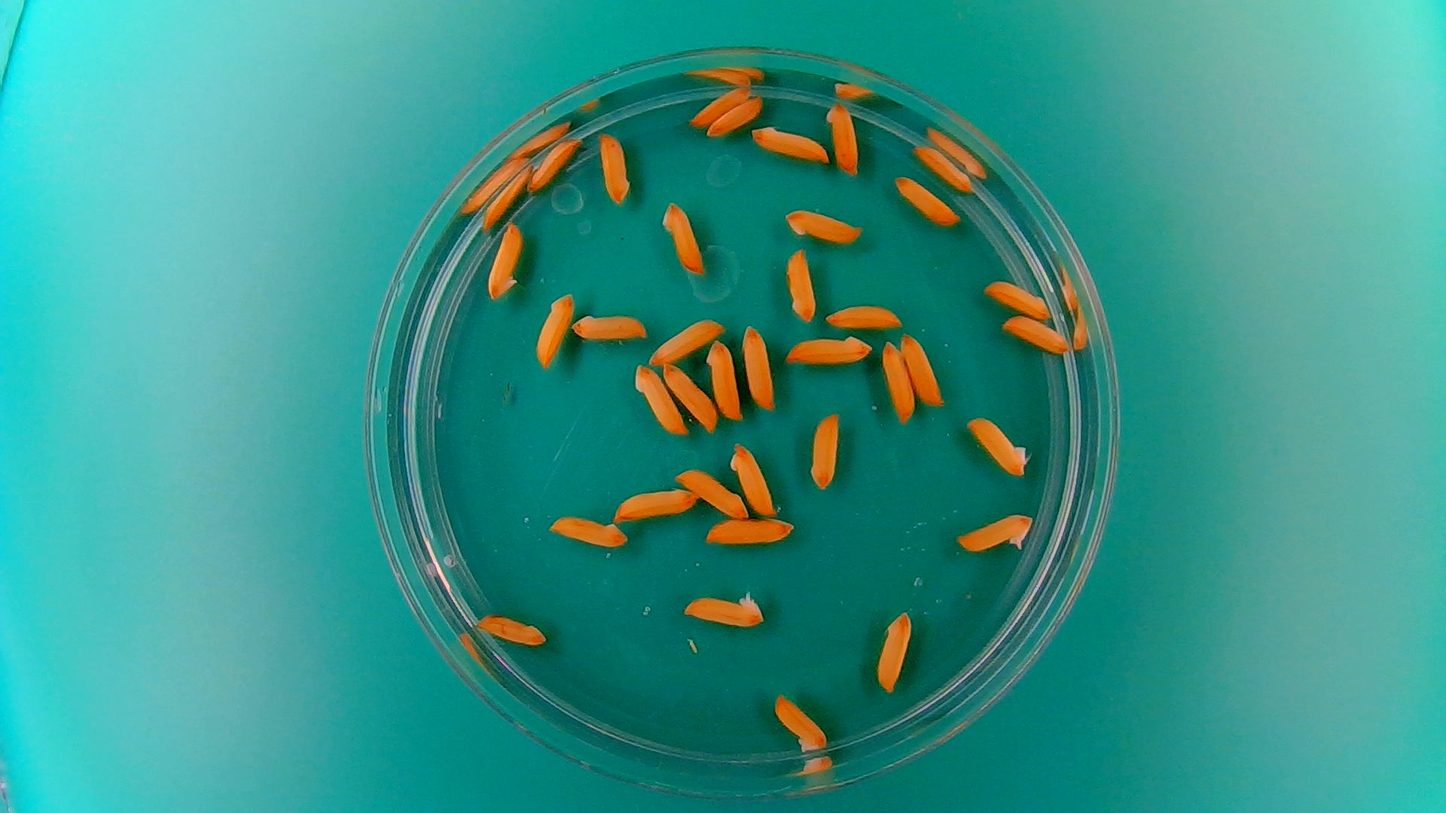no: (962, 412, 1032, 477), (672, 465, 749, 519), (660, 361, 718, 432), (633, 363, 687, 437), (770, 689, 828, 756), (726, 440, 777, 516), (703, 341, 748, 426), (480, 162, 535, 231), (648, 316, 727, 364), (659, 199, 707, 276), (874, 607, 914, 695), (893, 173, 959, 225), (899, 332, 944, 408), (532, 290, 575, 369), (740, 321, 777, 412), (484, 216, 524, 300), (527, 135, 584, 193), (749, 124, 829, 165), (612, 484, 698, 522), (781, 332, 874, 367), (703, 514, 795, 549), (783, 205, 863, 245), (880, 337, 916, 424), (546, 512, 628, 550), (981, 277, 1051, 320), (1001, 313, 1072, 355), (914, 142, 973, 192), (473, 608, 548, 647), (808, 407, 842, 492), (823, 100, 861, 175), (595, 127, 631, 206), (687, 85, 751, 126), (706, 94, 764, 139), (785, 246, 818, 322), (572, 311, 649, 342), (822, 301, 903, 330)
yes: (679, 585, 764, 629), (953, 510, 1034, 555)
